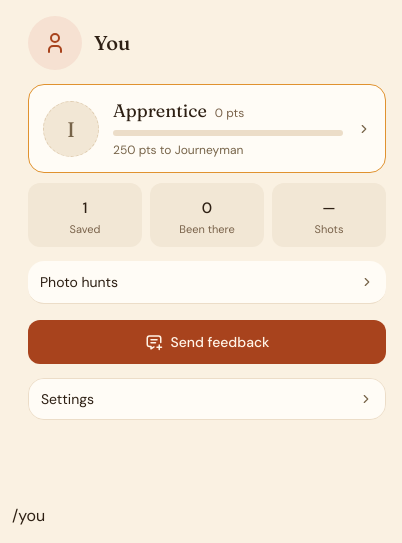
You — stats and carried-over Saved pieces › stats tiles ARE the navigation — no duplicate rows below (feedback 2026-07-16)
// The three tiles are buttons…
Click the button "1 Saved": (85, 215) [28, 183, 142, 247]
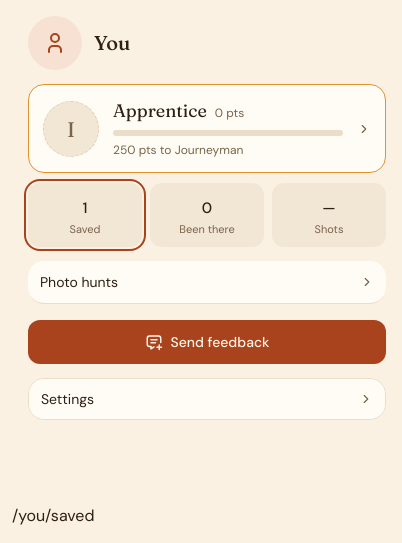
Result: the text with test id "loc" reads "/you/saved" at [12, 505, 94, 526]
Click the button "0 Been there": (207, 215) [150, 183, 264, 247]
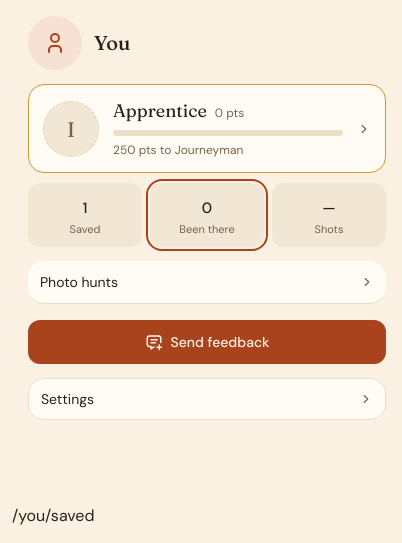
Result: the text with test id "loc" reads "/you/saved" at [12, 505, 94, 526]
Click the button "— Shots": (329, 215) [272, 183, 386, 247]
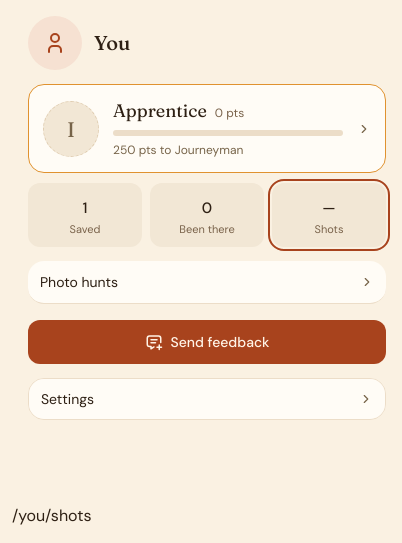
Expected: the button "Settings" is shown, [29, 379, 385, 419]
Result: the text with test id "loc" reads "/you/shots" at [12, 505, 92, 526]
